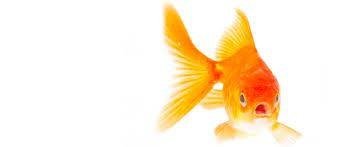Gold Fish: (159, 0, 303, 146)
